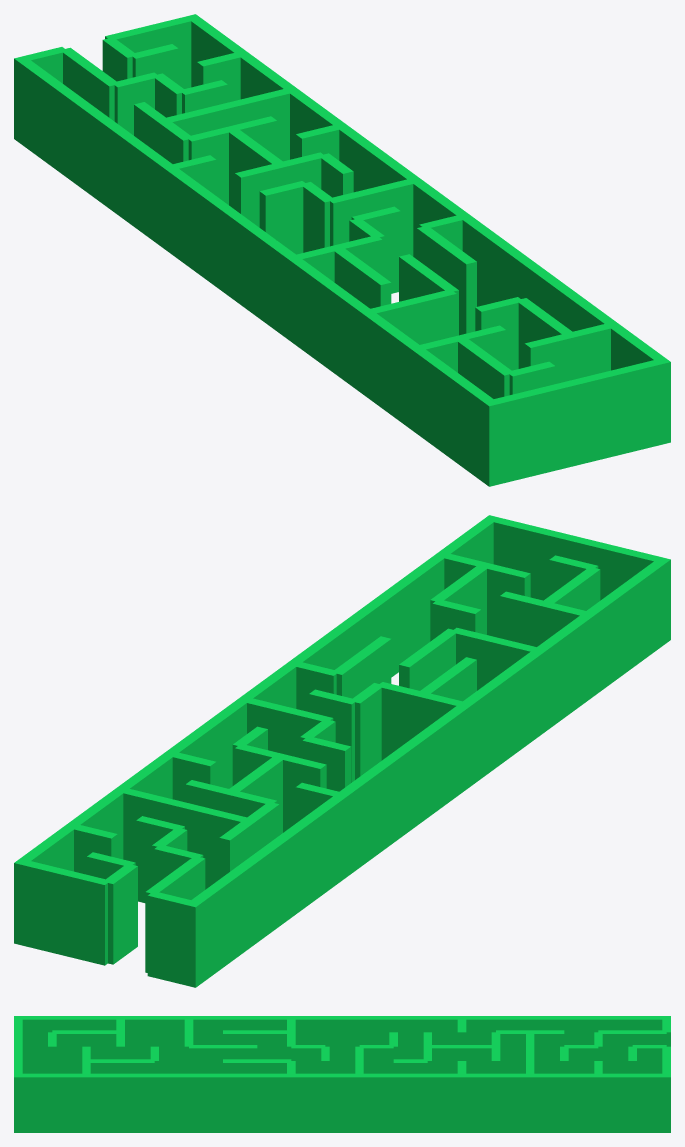
File: mazeWalls.glb
3 renders of one model, top to bottom at view 1: azimuth 30°, elevation 25°; view 2: azimuth 150°, elevation 25°; view 3: azimuth 270°, elevation 25°, orthographic. The views are drawn at different scales.
Parts seen in each view (by area): view 1: Wall.057; view 2: Wall.057; view 3: Wall.057.
Boxes of the visible parts, left/top/right/bottom form: Wall.057: left=14, top=14, right=670, bottom=486; Wall.057: left=14, top=515, right=670, bottom=987; Wall.057: left=14, top=1016, right=670, bottom=1132.
Size of the model in its own units: 4.25 by 1.8 by 19.25.
